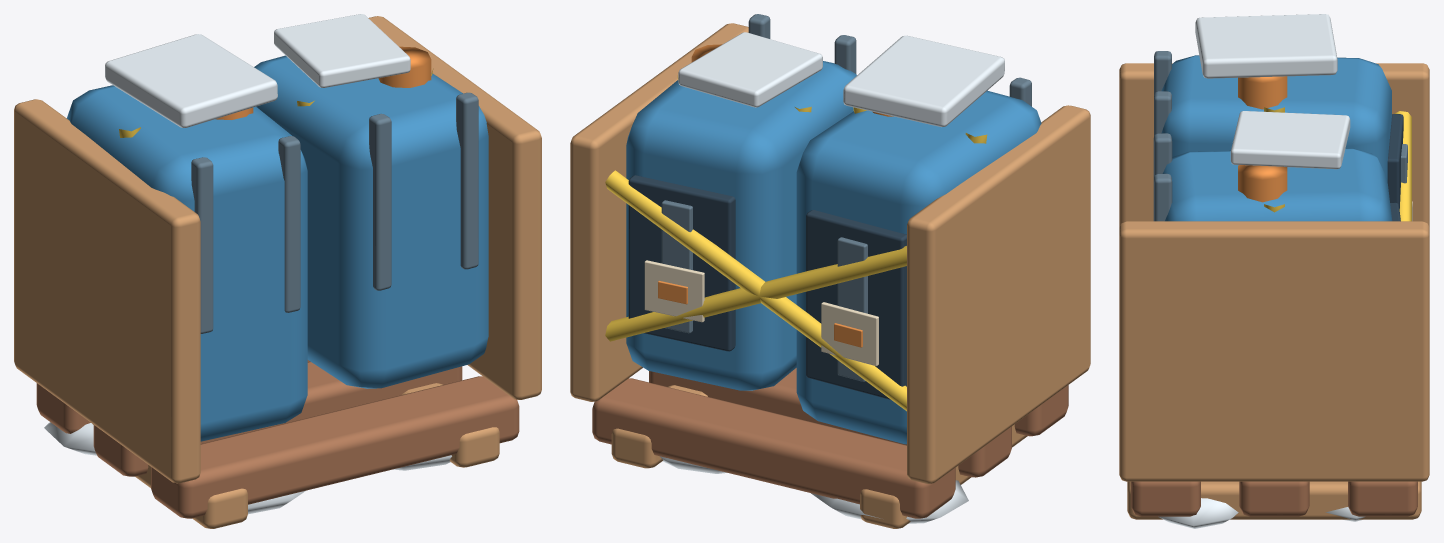
The model's file is fuel_canister.glb.
3 views of the same model, side by side, from view 1: azimuth 30°, elevation 25°; view 2: azimuth 150°, elevation 25°; view 3: azimuth 270°, elevation 25° (orthographic). The views are drawn at different scales.
Visible parts, largest first — view 1: fuel_canister; view 2: fuel_canister; view 3: fuel_canister.
Boxes of the visible parts, bbox=[...] form: fuel_canister: bbox=[14, 14, 541, 528]; fuel_canister: bbox=[570, 14, 1090, 528]; fuel_canister: bbox=[1119, 14, 1429, 528].
Bounding box in the file's own units: 1.02 × 1.07 × 0.78.
